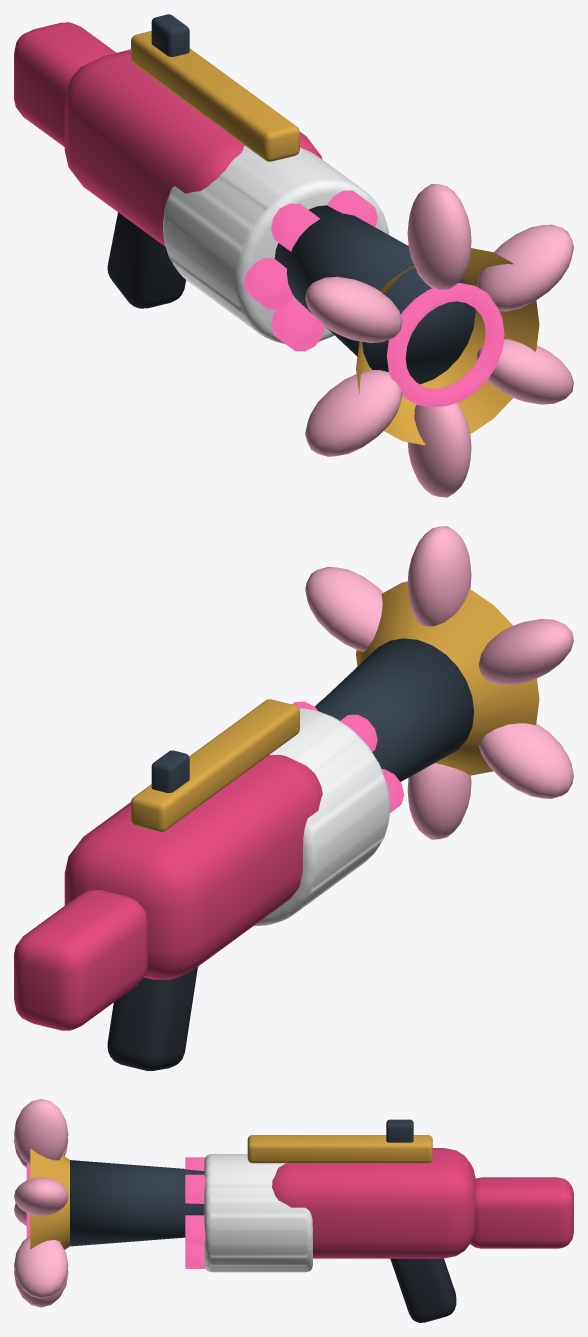
File: wpn_scatter.glb
3 renders of one model, top to bottom at view 1: azimuth 30°, elevation 25°; view 2: azimuth 150°, elevation 25°; view 3: azimuth 270°, elevation 25°, orthographic. The views are drawn at different scales.
Visible parts, largest first — view 1: body, drum, barrel, rail, stock, bell, bell_glow, petal_3, petal_0, petal_1, grip, petal_2 (+7 smaller); view 2: body, stock, barrel, drum, bell, rail, grip, petal_3, petal_1, petal_0, petal_2, petal_4 (+2 smaller); view 3: body, drum, barrel, stock, rail, grip, petal_1, petal_5, bell, petal_0, sight, shell_0 (+3 smaller).
Boxes of the visible parts, bbox=[...] form: body: bbox=[64, 49, 322, 246]; drum: bbox=[163, 145, 389, 344]; barrel: bbox=[274, 205, 475, 384]; rail: bbox=[131, 31, 299, 161]; stock: bbox=[14, 22, 116, 146]; bell: bbox=[356, 248, 539, 445]; bell_glow: bbox=[387, 283, 504, 407]; petal_3: bbox=[305, 370, 402, 456]; petal_0: bbox=[476, 224, 573, 311]; petal_1: bbox=[407, 184, 471, 289]; grip: bbox=[107, 212, 185, 308]; petal_2: bbox=[305, 276, 402, 342]; body: bbox=[64, 755, 322, 979]; stock: bbox=[14, 890, 147, 1030]; barrel: bbox=[315, 638, 474, 781]; drum: bbox=[254, 708, 390, 925]; bell: bbox=[356, 581, 539, 775]; rail: bbox=[131, 699, 299, 832]; grip: bbox=[107, 967, 197, 1070]; petal_3: bbox=[478, 723, 573, 798]; petal_1: bbox=[407, 526, 471, 626]; petal_0: bbox=[305, 567, 383, 651]; petal_2: bbox=[478, 619, 573, 685]; petal_4: bbox=[407, 763, 471, 839]; body: bbox=[272, 1148, 475, 1258]; drum: bbox=[204, 1154, 312, 1272]; barrel: bbox=[70, 1160, 204, 1246]; stock: bbox=[470, 1177, 573, 1248]; rail: bbox=[247, 1135, 432, 1163]; grip: bbox=[390, 1258, 456, 1322]; petal_1: bbox=[14, 1099, 68, 1165]; petal_5: bbox=[14, 1236, 68, 1298]; bell: bbox=[30, 1148, 69, 1249]; petal_0: bbox=[14, 1177, 68, 1215]; sight: bbox=[386, 1119, 413, 1142]; shell_0: bbox=[185, 1215, 205, 1245].
Size of the model in its own units: 0.3686 by 0.4432 by 1.03.
